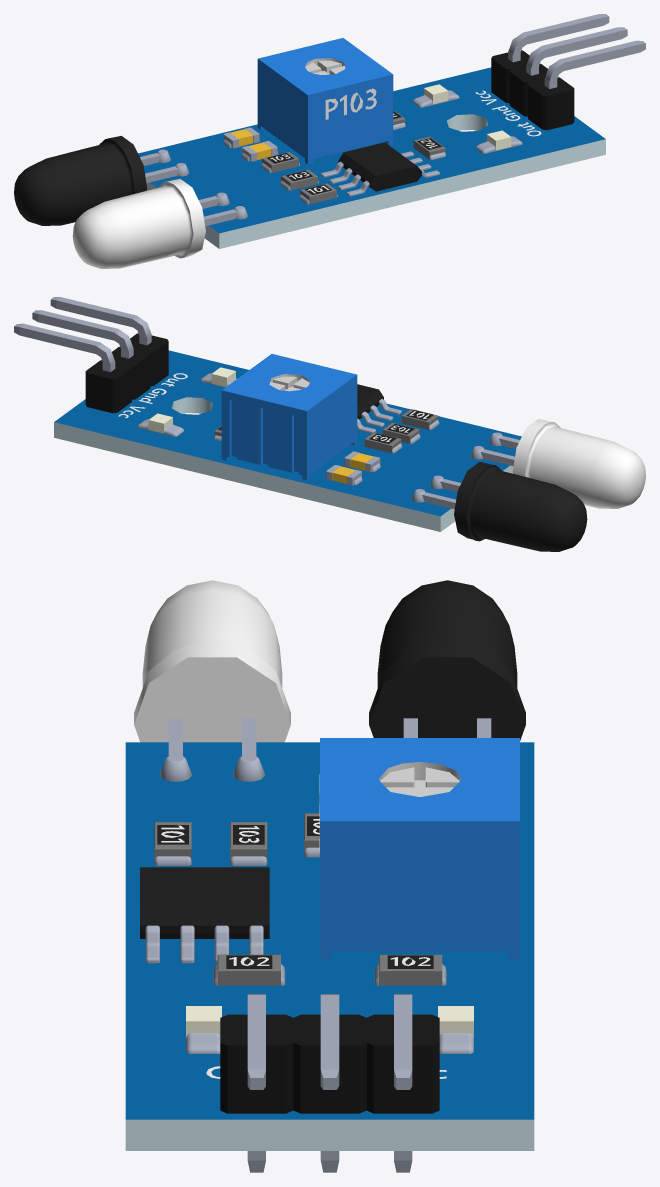
File: irSensor.fbx
3 renders of one model, top to bottom at view 1: azimuth 30°, elevation 25°; view 2: azimuth 150°, elevation 25°; view 3: azimuth 270°, elevation 25°, orthographic. The views are drawn at different scales.
Parts seen in each view (by area): view 1: Body - Part 2, Body - Part 7, Body - Part 3, Group - Part, Body - Part 4, Body - Part, Body-2 - Part, Group - Part 3, Body - Part 5, Group - Part 2, Body - Part 6, Group - Part 4; view 2: Body - Part 2, Body - Part 7, Body - Part 4, Body - Part 3, Group - Part, Body - Part, Body-2 - Part, Body - Part 5, Group - Part 2, Group - Part 3, Body - Part 6, Group - Part 4; view 3: Body - Part 2, Body - Part 7, Body - Part 4, Body - Part 3, Body-2 - Part, Group - Part, Body - Part, Group - Part 3, Body - Part 5, Body - Part 6, Group - Part 2.
Boxes of the visible parts, <box> form: Body - Part 2: <box>138,67,605,233</box>; Body - Part 7: <box>257,38,393,164</box>; Body - Part 3: <box>72,88,541,268</box>; Group - Part: <box>140,14,645,226</box>; Body - Part 4: <box>14,111,441,225</box>; Body - Part: <box>146,114,605,248</box>; Body-2 - Part: <box>491,50,574,130</box>; Group - Part 3: <box>338,142,421,191</box>; Body - Part 5: <box>262,110,445,204</box>; Group - Part 2: <box>424,84,511,150</box>; Body - Part 6: <box>305,58,345,74</box>; Group - Part 4: <box>230,129,271,159</box>; Body - Part 2: <box>54,350,521,516</box>; Body - Part 7: <box>221,354,357,480</box>; Body - Part 4: <box>218,410,587,551</box>; Body - Part 3: <box>118,373,645,508</box>; Group - Part: <box>14,297,519,509</box>; Body - Part: <box>54,397,513,531</box>; Body-2 - Part: <box>85,333,168,413</box>; Body - Part 5: <box>214,409,438,453</box>; Group - Part 2: <box>148,367,235,433</box>; Group - Part 3: <box>357,384,383,419</box>; Body - Part 6: <box>269,374,309,391</box>; Group - Part 4: <box>332,453,373,483</box>; Body - Part 2: <box>125,742,534,1119</box>; Body - Part 7: <box>320,738,519,959</box>; Body - Part 4: <box>157,580,525,968</box>; Body - Part 3: <box>134,580,446,1078</box>; Body-2 - Part: <box>220,1014,439,1113</box>; Group - Part: <box>145,718,491,1172</box>; Body - Part: <box>125,1119,534,1150</box>; Group - Part 3: <box>140,867,269,938</box>; Body - Part 5: <box>154,813,442,985</box>; Body - Part 6: <box>378,762,461,796</box>; Group - Part 2: <box>186,1006,473,1037</box>.
Bounding box in the file's own units: 4.63 × 0.805 × 1.42.
